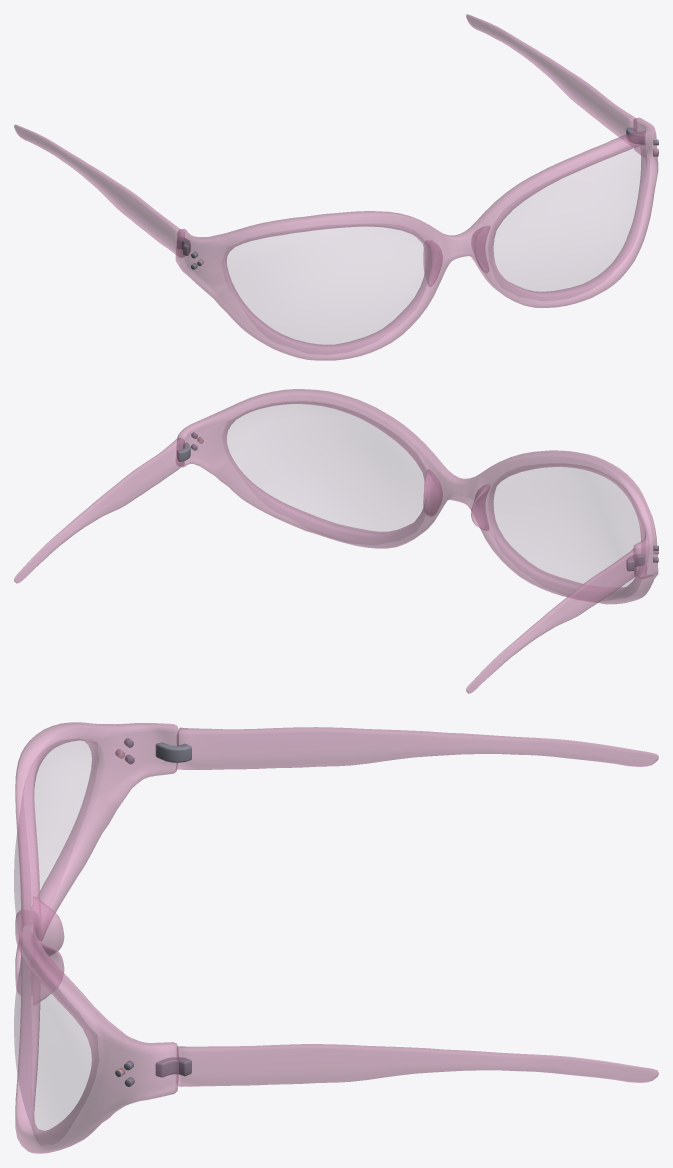
The model's file is quartz.glb.
3 views of the same model, one above another, from view 1: azimuth 30°, elevation 25°; view 2: azimuth 150°, elevation 25°; view 3: azimuth 270°, elevation 25° (orthographic). The views are drawn at different scales.
Visible parts, largest first — view 1: model_3.003; view 2: model_3.003; view 3: model_3.003.
Boxes of the visible parts, x1,y1,x2,y2 form: model_3.003: [14, 14, 658, 360]; model_3.003: [14, 389, 658, 693]; model_3.003: [14, 722, 658, 1153].
Size of the model in its own units: 2.21 by 0.6493 by 1.82.
